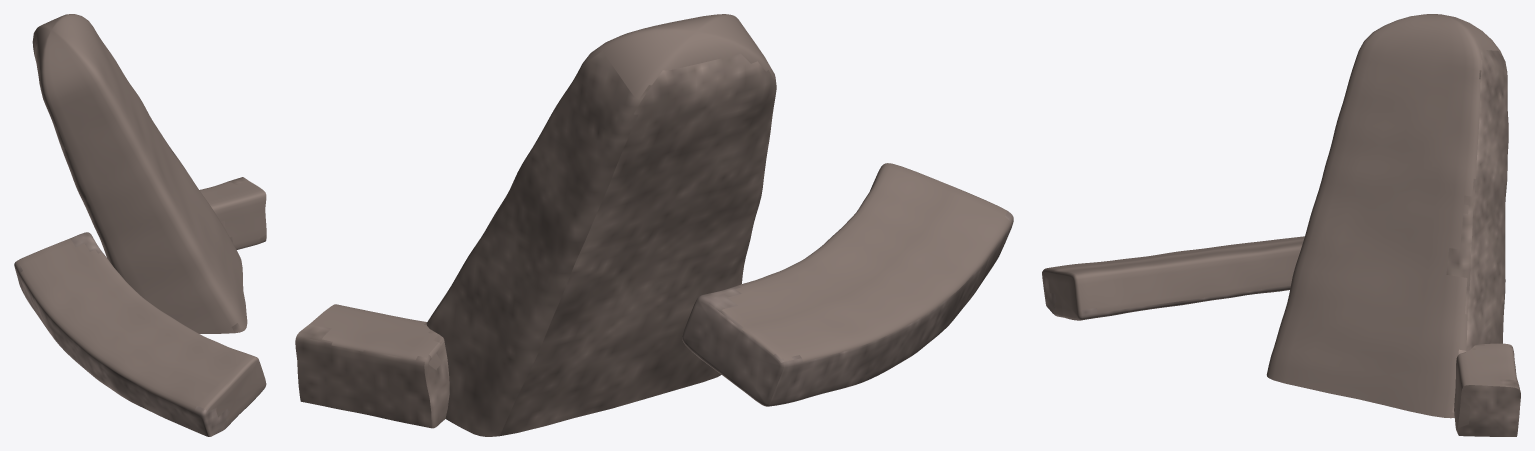
The model's file is VerHenge01b.glb.
3 views of the same model, side by side, from view 1: azimuth 30°, elevation 25°; view 2: azimuth 150°, elevation 25°; view 3: azimuth 270°, elevation 25° (orthographic). The views are drawn at different scales.
Parts seen in each view (by area): view 1: VerHenge01b; view 2: VerHenge01b; view 3: VerHenge01b.
Part boxes in pixels (bbox=[...]): VerHenge01b: bbox=[14, 14, 266, 436]; VerHenge01b: bbox=[295, 14, 1013, 436]; VerHenge01b: bbox=[1042, 14, 1520, 436].
Bounding box in the file's own units: 4.07 × 3.72 × 5.3.
Materials: 2 (1 with a texture image).
